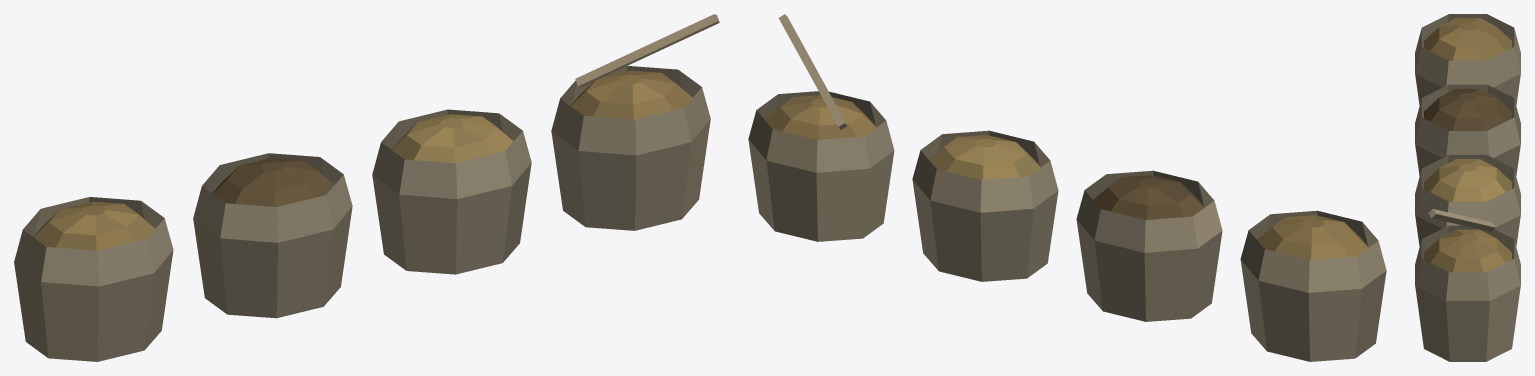
The model's file is walk_prop_goods_grain.glb.
The picture shows the model from 3 angles, left to right: view 1: azimuth 30°, elevation 25°; view 2: azimuth 150°, elevation 25°; view 3: azimuth 270°, elevation 25°; orthographic projection. The views are drawn at different scales.
Parts seen in each view (by area): view 1: walk_prop_goods_grain; view 2: walk_prop_goods_grain; view 3: walk_prop_goods_grain.
Boxes of the visible parts, x1=… form: walk_prop_goods_grain: x1=14, y1=14, x2=719, y2=361; walk_prop_goods_grain: x1=748, y1=14, x2=1386, y2=361; walk_prop_goods_grain: x1=1415, y1=14, x2=1520, y2=361.
Size of the model in its own units: 2.62 by 0.7175 by 0.4435.
1 material, 1 textured.
